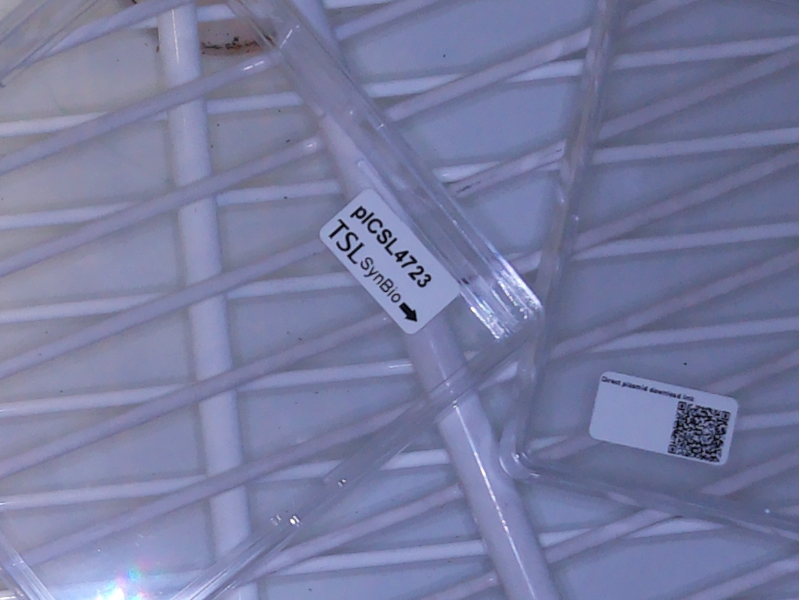plate: (1, 1, 547, 600), (495, 1, 799, 553)
